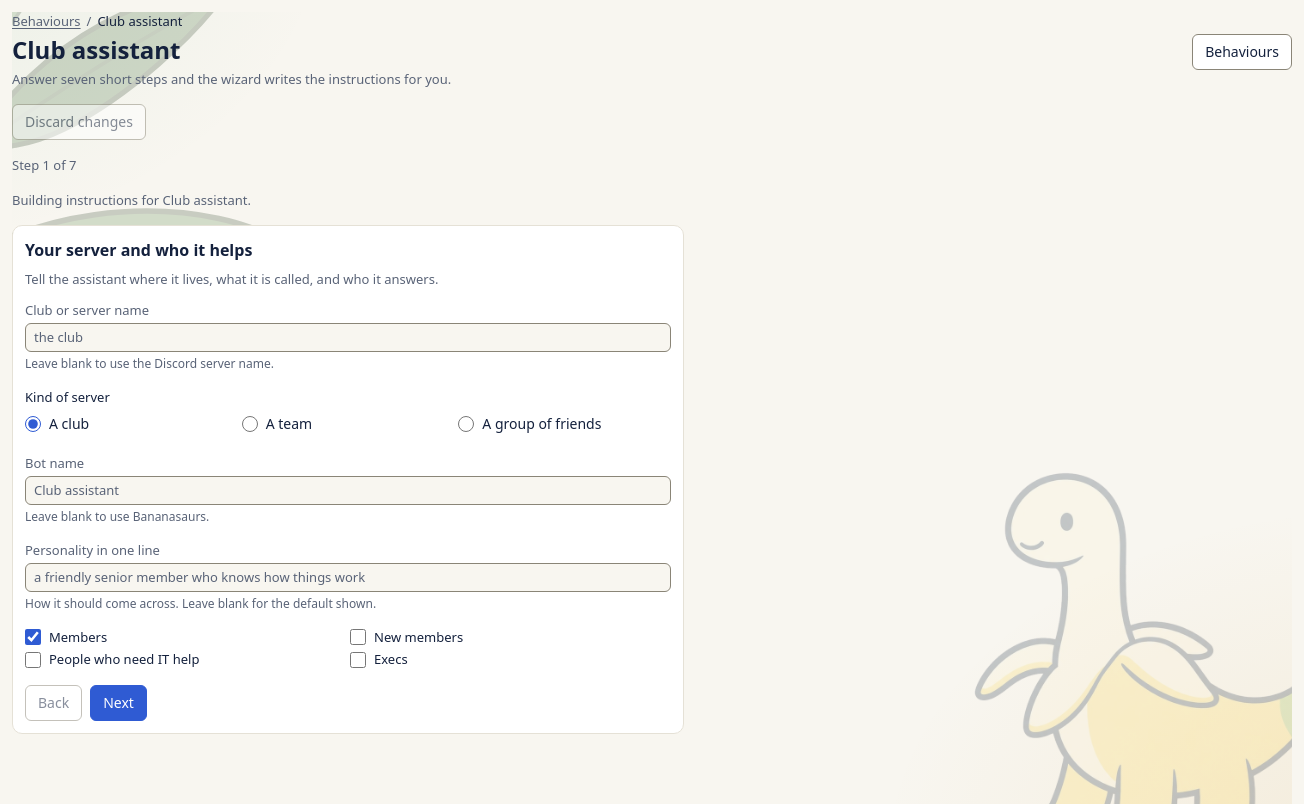
Test: AssistantPromptWizardPage › restores the stored answers instead of the defaults
Click the button "Next".
click(119, 703)  # box [90,685,147,721]
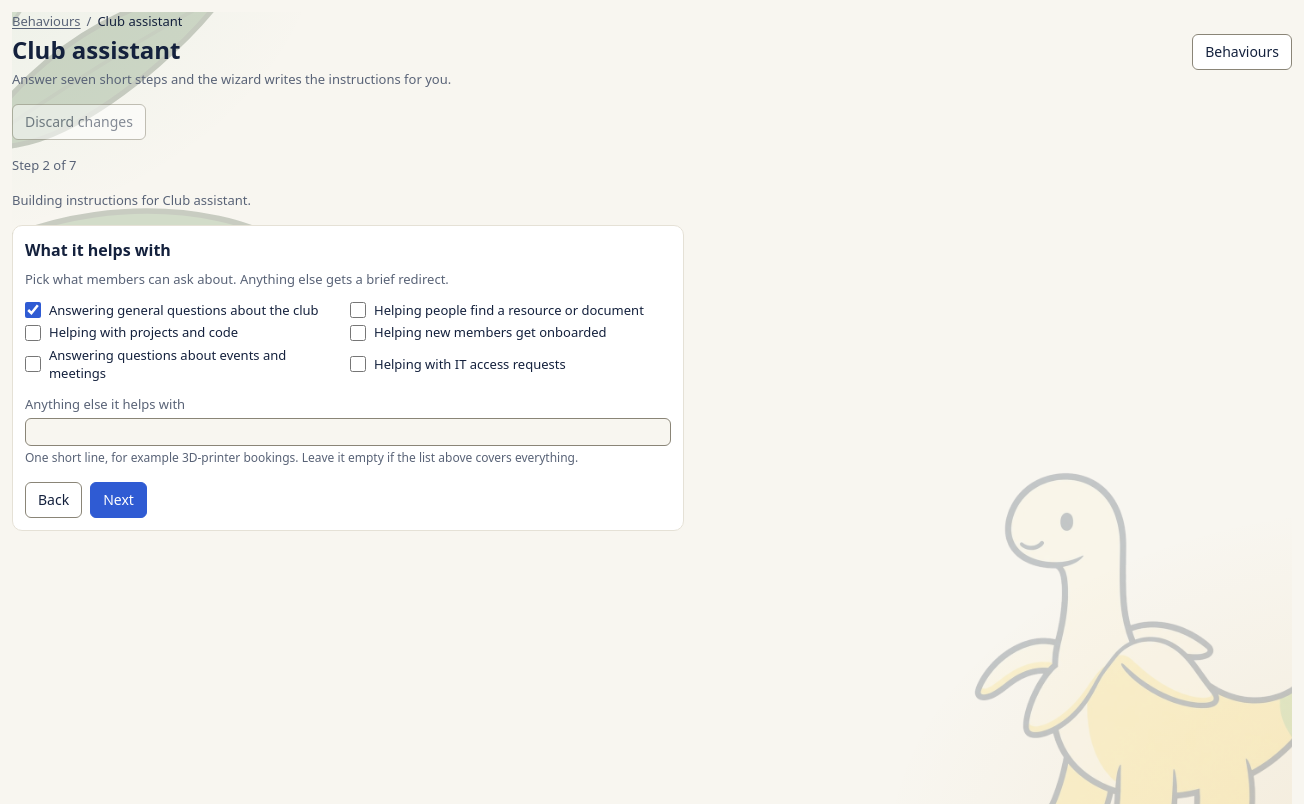
Click the button "Next".
click(119, 500)  # box [90,482,147,518]
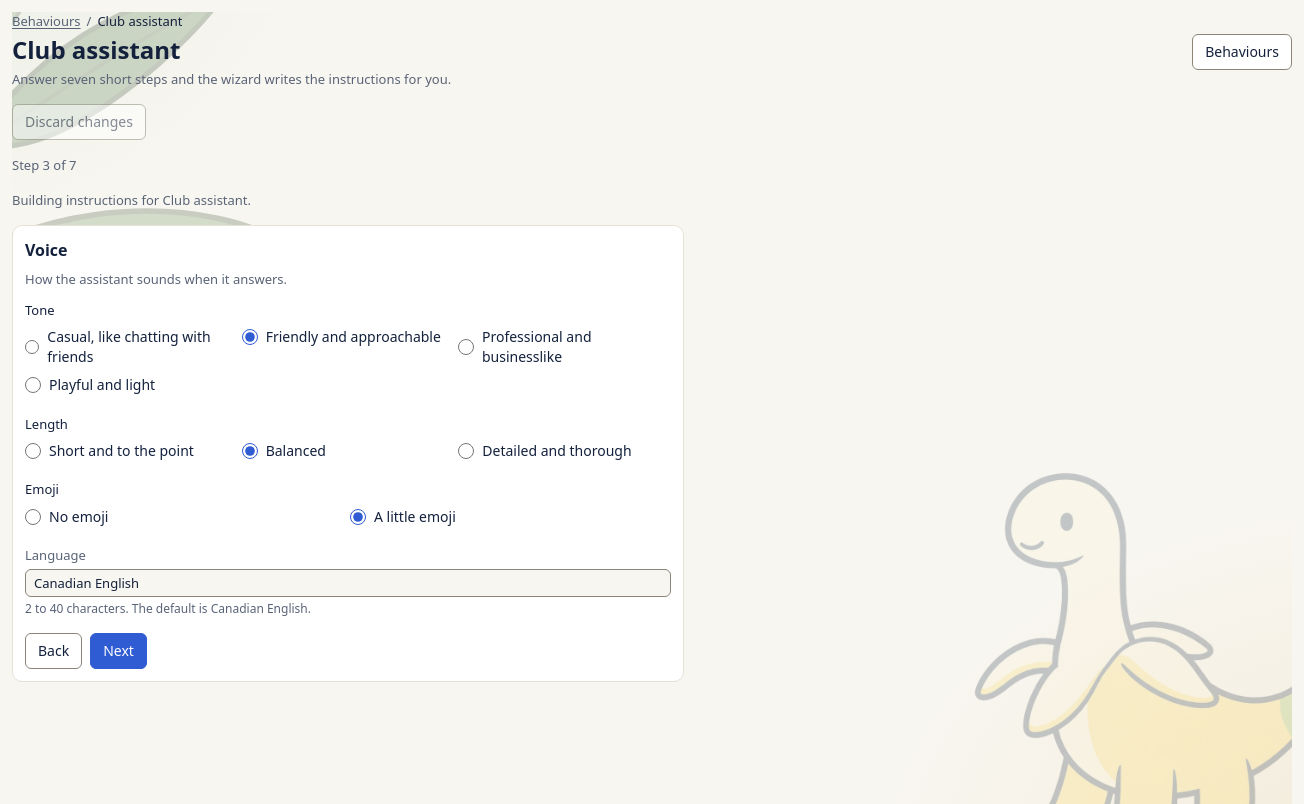
Click the button "Next".
click(119, 651)  # box [90,633,147,669]
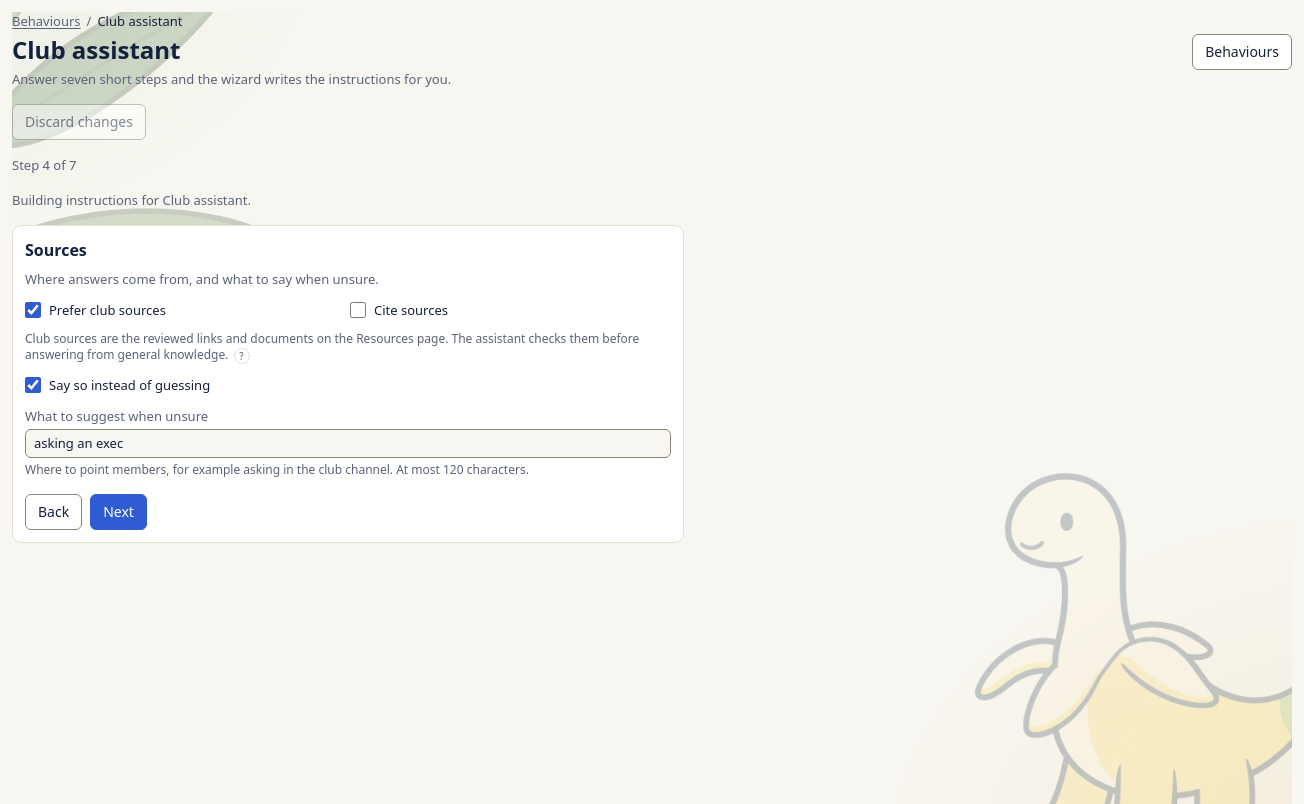
Click the button "Next".
click(119, 512)  # box [90,494,147,530]
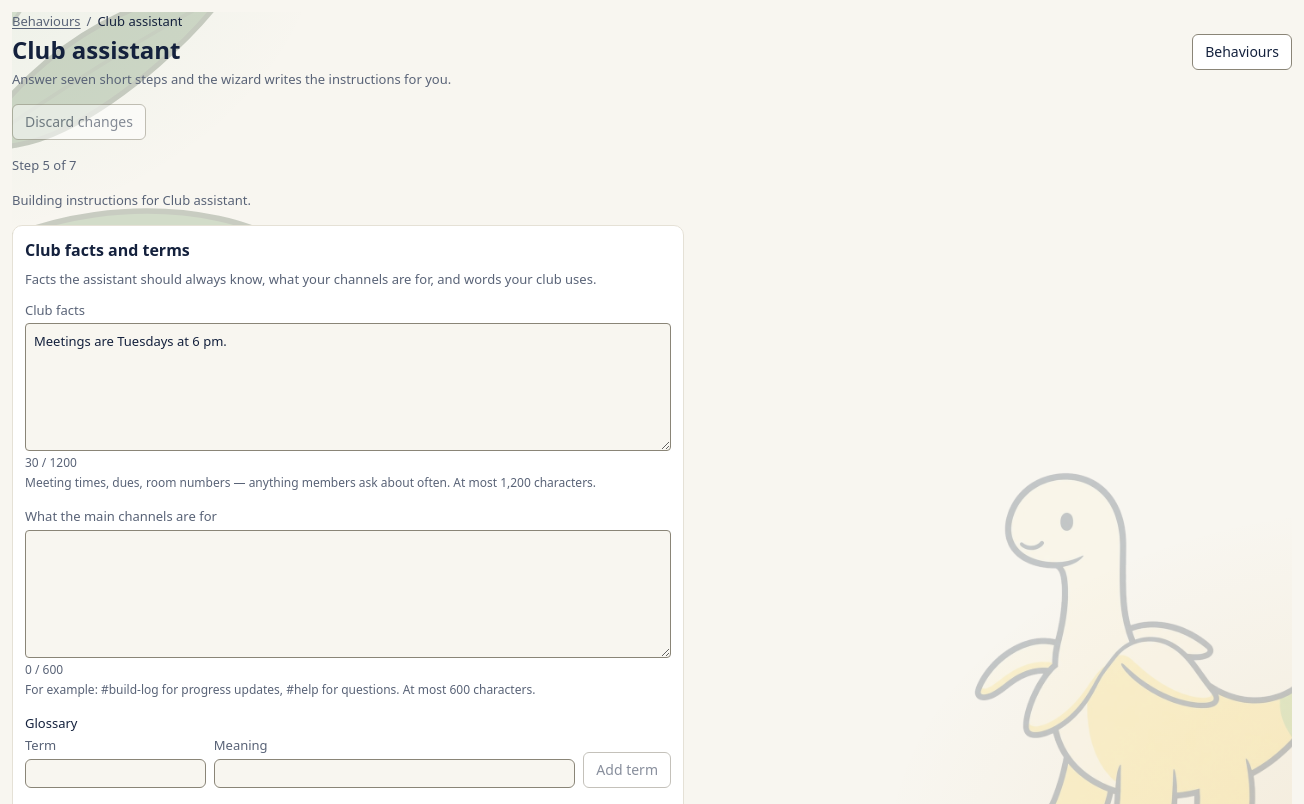
Expected: the heading "Club facts and terms" is shown, [25,238,190,262]
Expected: the text box labelled "Club facts" holds "Meetings are Tuesdays at 6 pm.", [25,323,671,451]
